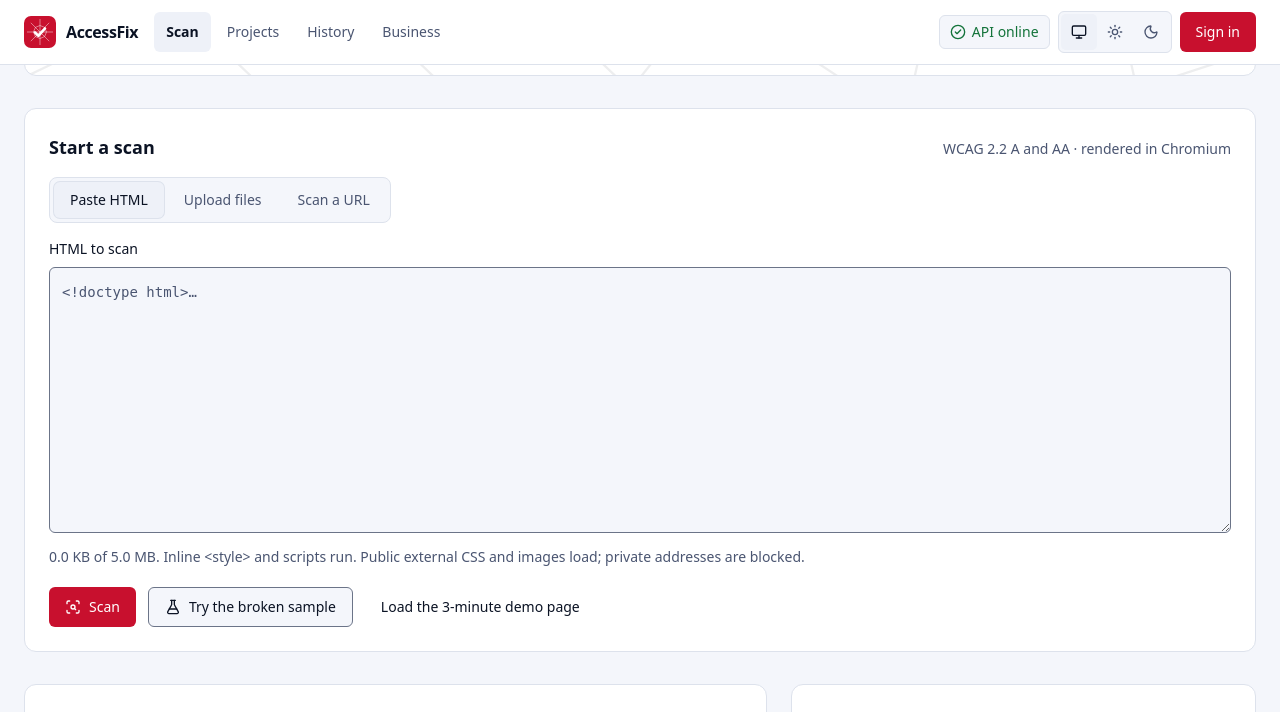
Scenario: scan flow › shows the real server stage while scanning
(page scrolled)
Expected: the text "API online" is shown, [950,22,1038,42]
Type "<p>hi</p>" into the text box labelled "HTML to scan".
click(640, 400); type("<p>hi</p>")  # box [49,267,1231,533]
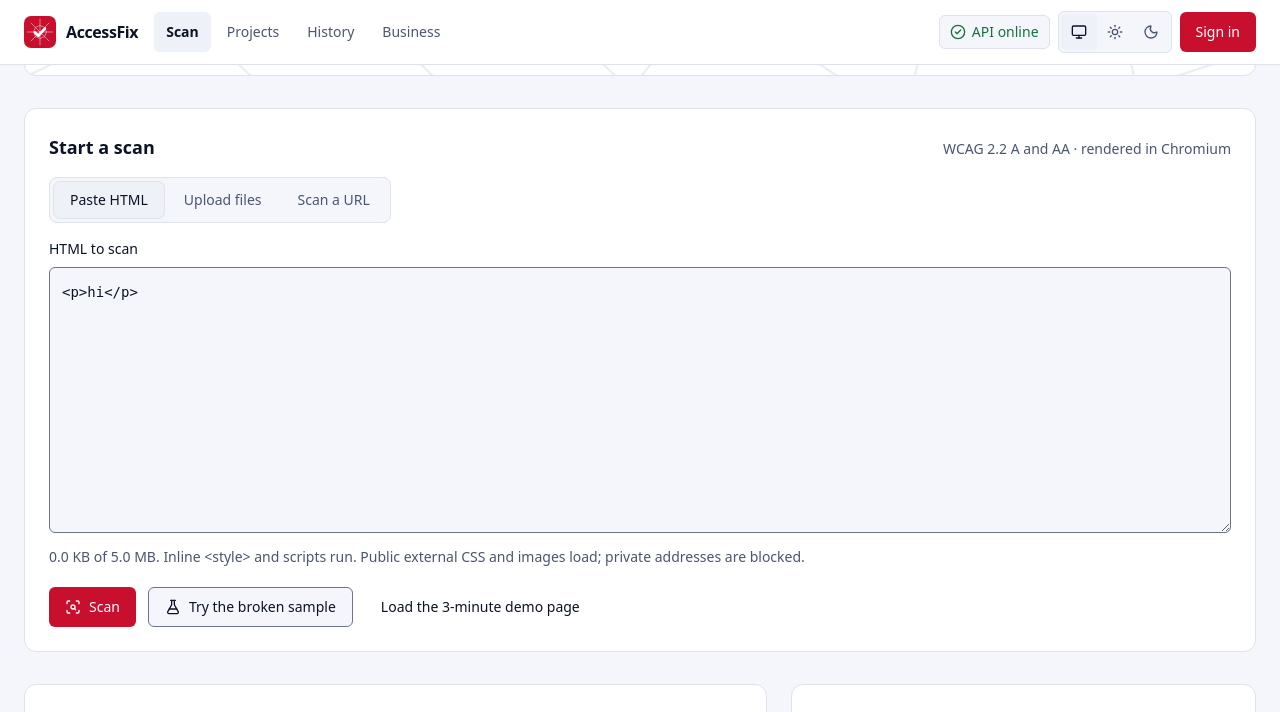
Click the button "Scan".
click(92, 607)  # box [49,587,136,627]
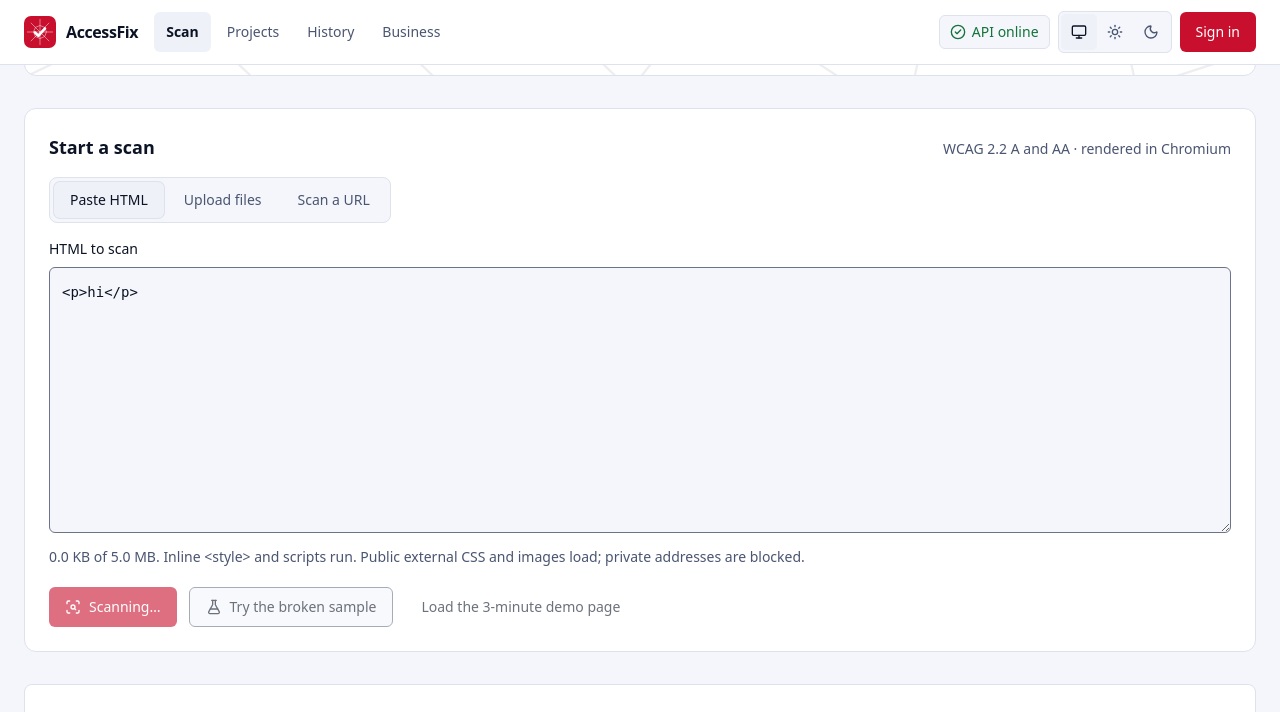
Now the button "Scanning…" is disabled, box [49,587,176,627]
